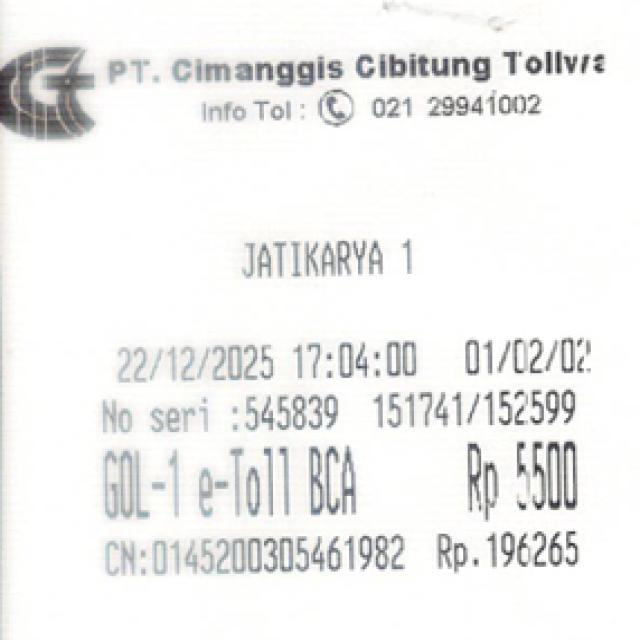date: (116, 337, 420, 382)
store: (97, 52, 612, 85)
total: (454, 442, 608, 512)
